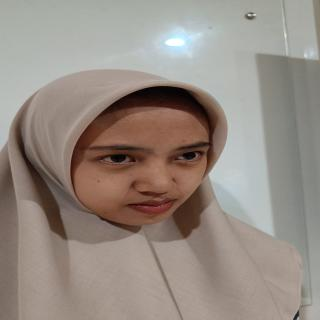Marah: (65, 96, 210, 231)
